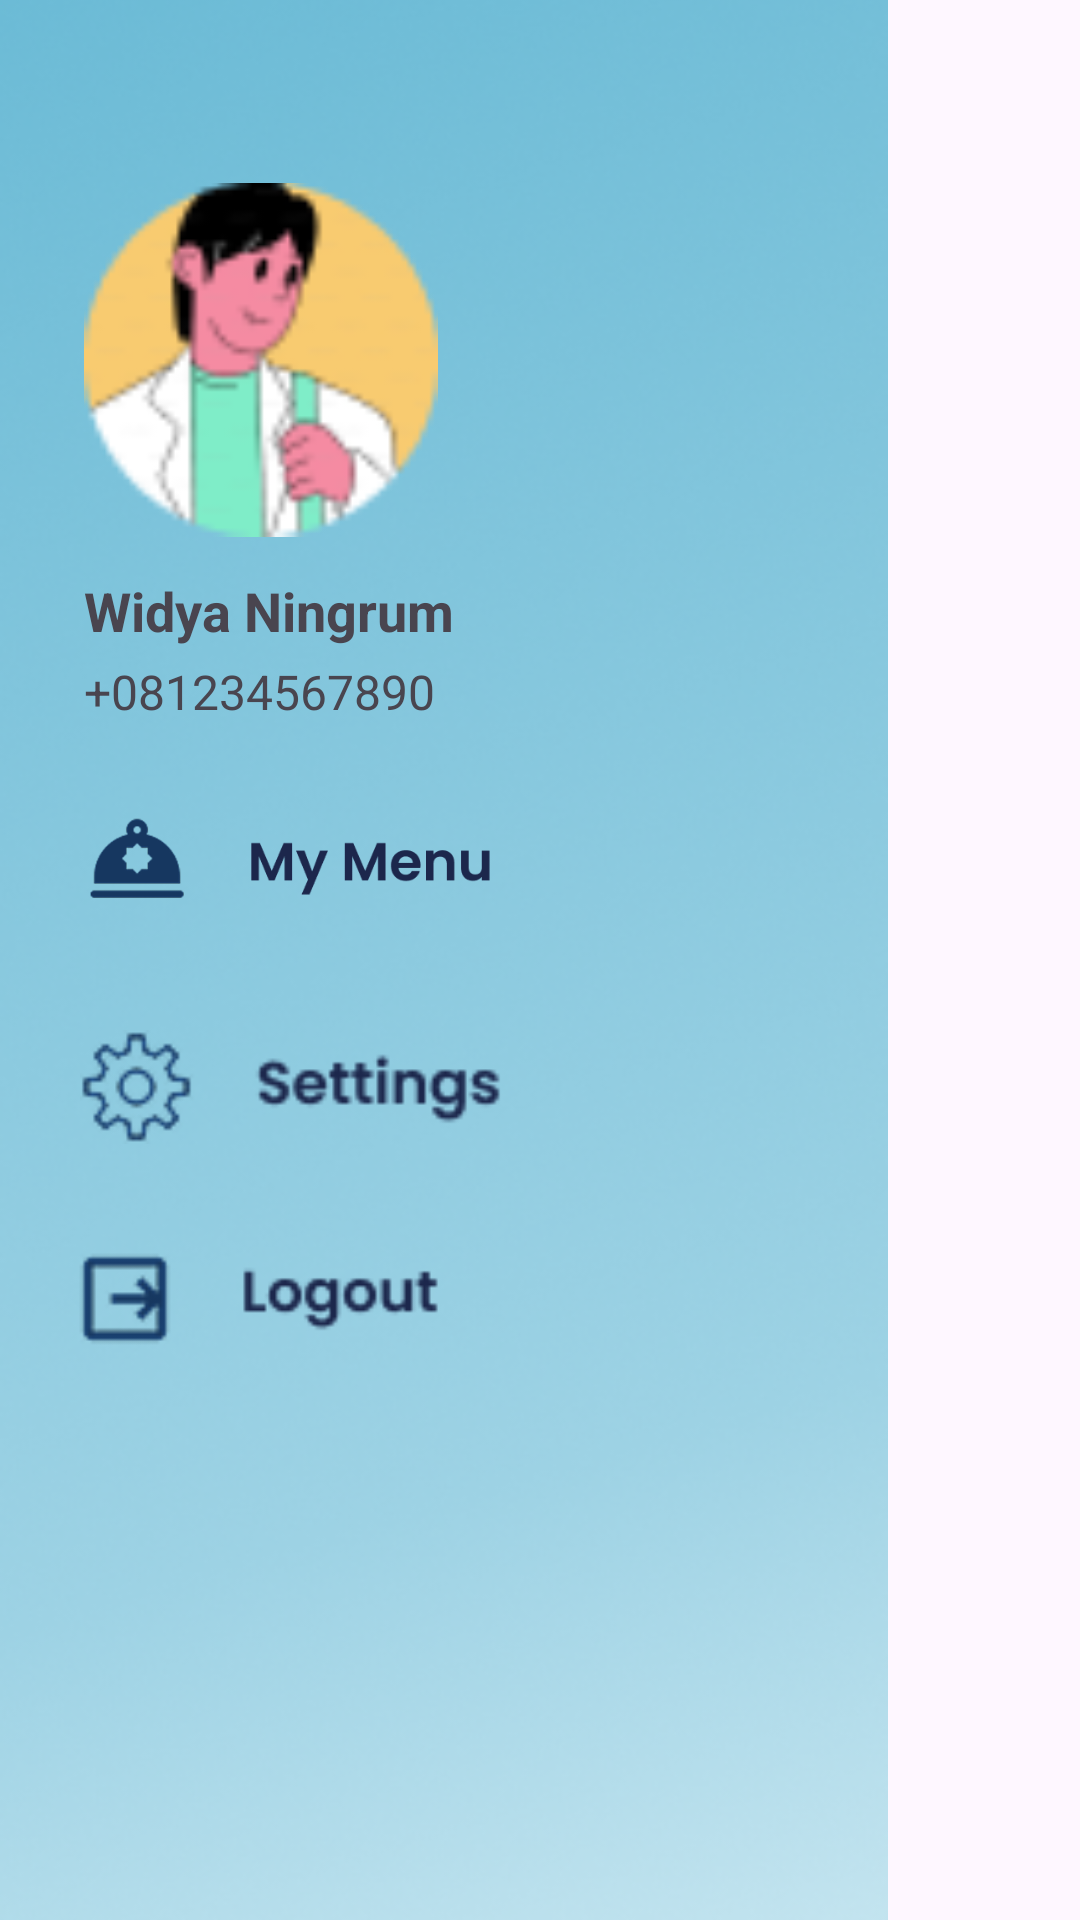

Icons on this 1080px x 1920px Android screen, each with its box as Rect(x1, y1, x2, y2):
profile: Rect(84, 183, 438, 537)
